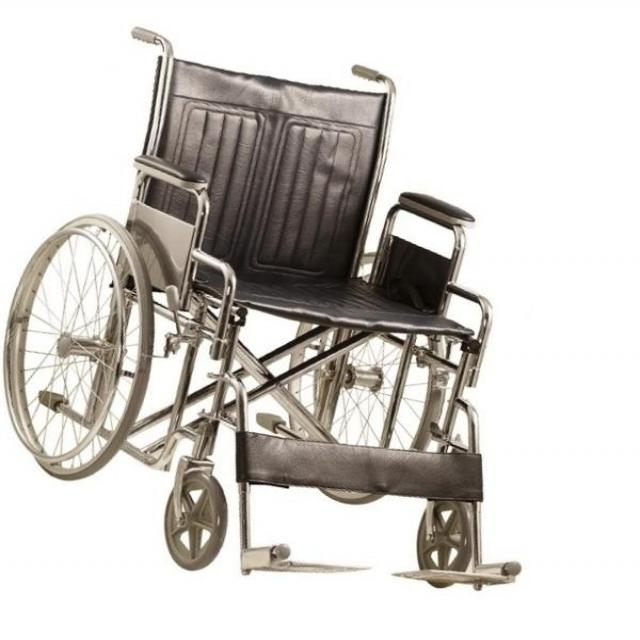wheelchair: (5, 18, 526, 597)
